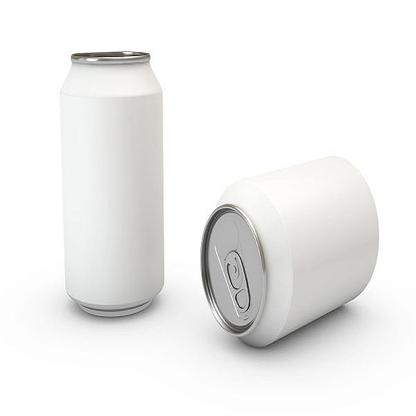can: (200, 147, 390, 348), (55, 44, 167, 320)
